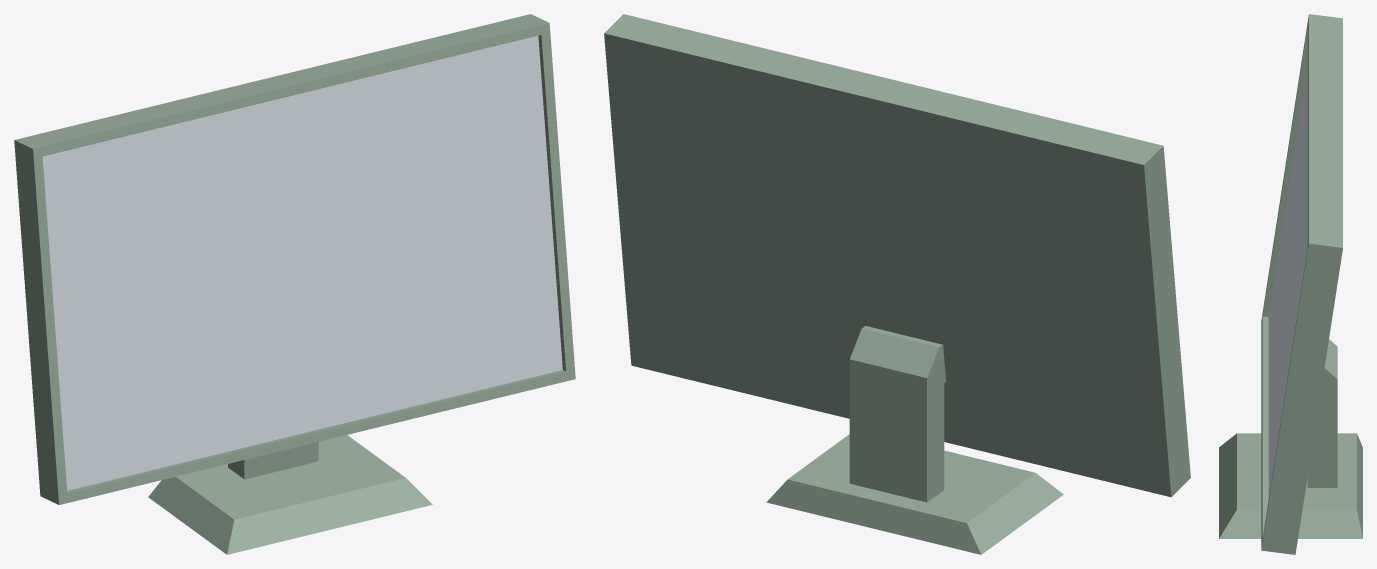
Rendered from computerScreen.glb.
3 views of the same model, side by side, from view 1: azimuth 30°, elevation 25°; view 2: azimuth 150°, elevation 25°; view 3: azimuth 270°, elevation 25° (orthographic). The views are drawn at different scales.
Parts seen in each view (by area): view 1: computerScreen(Clone); view 2: computerScreen(Clone); view 3: computerScreen(Clone).
Boxes of the visible parts, left/top/right/bottom form: computerScreen(Clone): left=14, top=14, right=575, bottom=554; computerScreen(Clone): left=604, top=14, right=1190, bottom=554; computerScreen(Clone): left=1219, top=14, right=1362, bottom=554.
Size of the model in its own units: 0.3927 by 0.2943 by 0.104.
